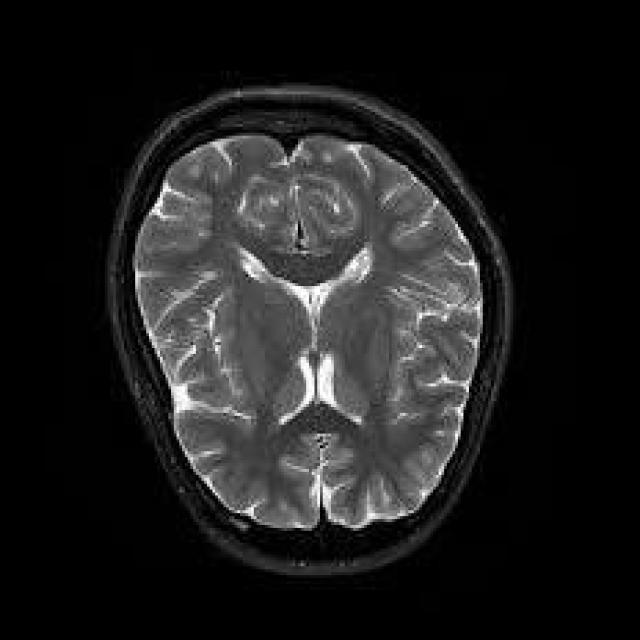notumor: (108, 88, 510, 575)
